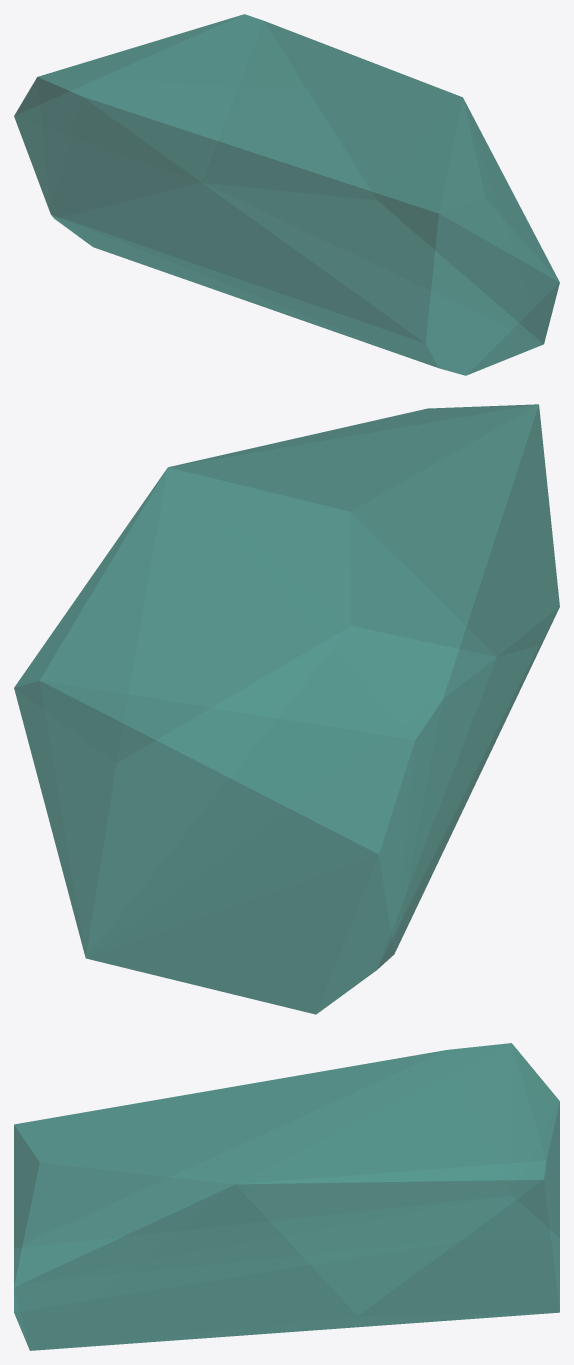
The picture shows the model from 3 angles, top to bottom: view 1: azimuth 30°, elevation 25°; view 2: azimuth 150°, elevation 25°; view 3: azimuth 270°, elevation 25°; orthographic projection. The views are drawn at different scales.
Visible parts, largest first — view 1: Shape_IndexedFaceSet.126_Shape_IndexedFaceSet.167; view 2: Shape_IndexedFaceSet.126_Shape_IndexedFaceSet.167; view 3: Shape_IndexedFaceSet.126_Shape_IndexedFaceSet.167.
Boxes of the visible parts, x1,y1,x2,y2 form: Shape_IndexedFaceSet.126_Shape_IndexedFaceSet.167: [14, 14, 559, 375]; Shape_IndexedFaceSet.126_Shape_IndexedFaceSet.167: [14, 404, 559, 1014]; Shape_IndexedFaceSet.126_Shape_IndexedFaceSet.167: [14, 1043, 559, 1350].
Bounding box in the file's own units: 0.1667 × 0.0953 × 0.2607.
